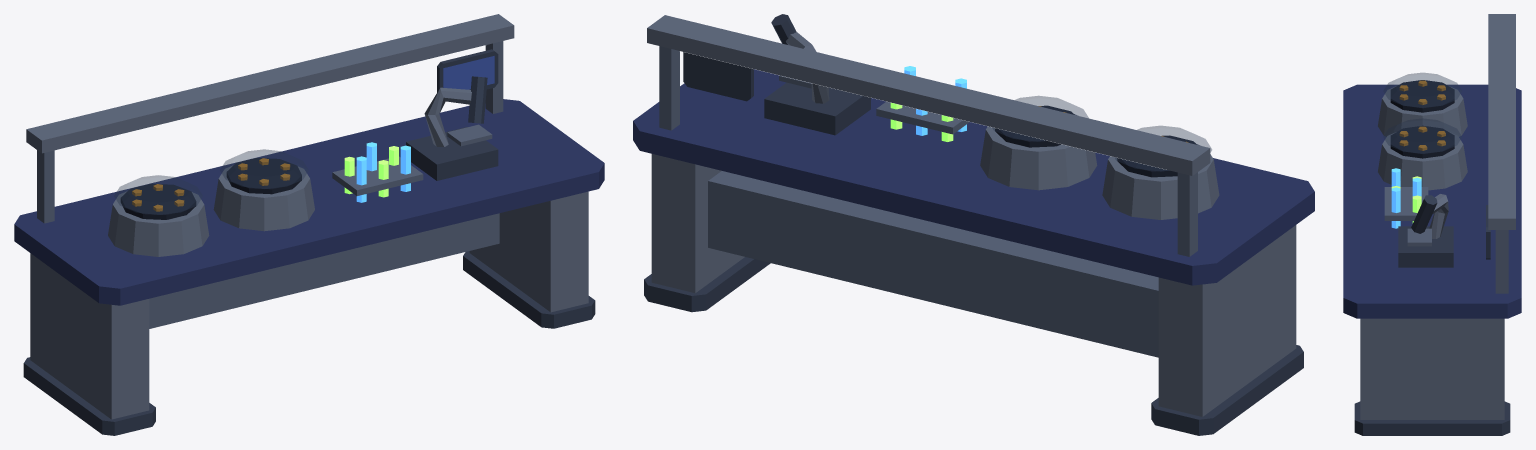
The model's file is lab_centrifuge_bench.glb.
3 renders of one model, left to right at view 1: azimuth 30°, elevation 25°; view 2: azimuth 150°, elevation 25°; view 3: azimuth 270°, elevation 25°, orthographic. The views are drawn at different scales.
Visible parts, largest first — view 1: centrifuge, epoxy_worktop, sample_holder, instrument_bezel, rotor_lid, rotor, print, sample_tube.001, tube_cap, sample_tube; view 2: centrifuge, epoxy_worktop, sample_holder, instrument_bezel, rotor_lid, rotor; view 3: centrifuge, epoxy_worktop, instrument_bezel, rotor_lid, rotor, sample_holder, sample_tube.001, tube_cap, sample_tube.
Part boxes in pixels (<box>): centrifuge: <box>26,14,588,419</box>; epoxy_worktop: <box>14,99,604,305</box>; sample_holder: <box>37,41,503,328</box>; instrument_bezel: <box>23,49,595,435</box>; rotor_lid: <box>114,149,308,214</box>; rotor: <box>120,158,301,219</box>; print: <box>443,56,494,89</box>; sample_tube.001: <box>356,142,410,202</box>; tube_cap: <box>132,158,290,211</box>; sample_tube: <box>344,146,398,197</box>; centrifuge: <box>647,15,1296,416</box>; epoxy_worktop: <box>633,69,1314,285</box>; sample_holder: <box>659,46,1197,357</box>; instrument_bezel: <box>644,14,1303,435</box>; rotor_lid: <box>992,96,1211,171</box>; rotor: <box>995,105,1196,177</box>; centrifuge: <box>1360,14,1515,419</box>; epoxy_worktop: <box>1343,84,1521,318</box>; instrument_bezel: <box>1354,195,1510,435</box>; rotor_lid: <box>1383,73,1461,153</box>; rotor: <box>1390,80,1454,158</box>; sample_holder: <box>1384,187,1508,293</box>; sample_tube.001: <box>1391,168,1421,228</box>; tube_cap: <box>1399,80,1445,150</box>; sample_tube: <box>1391,176,1421,223</box>.
Size of the model in its own units: 3.2 by 1.45 by 1.1.
